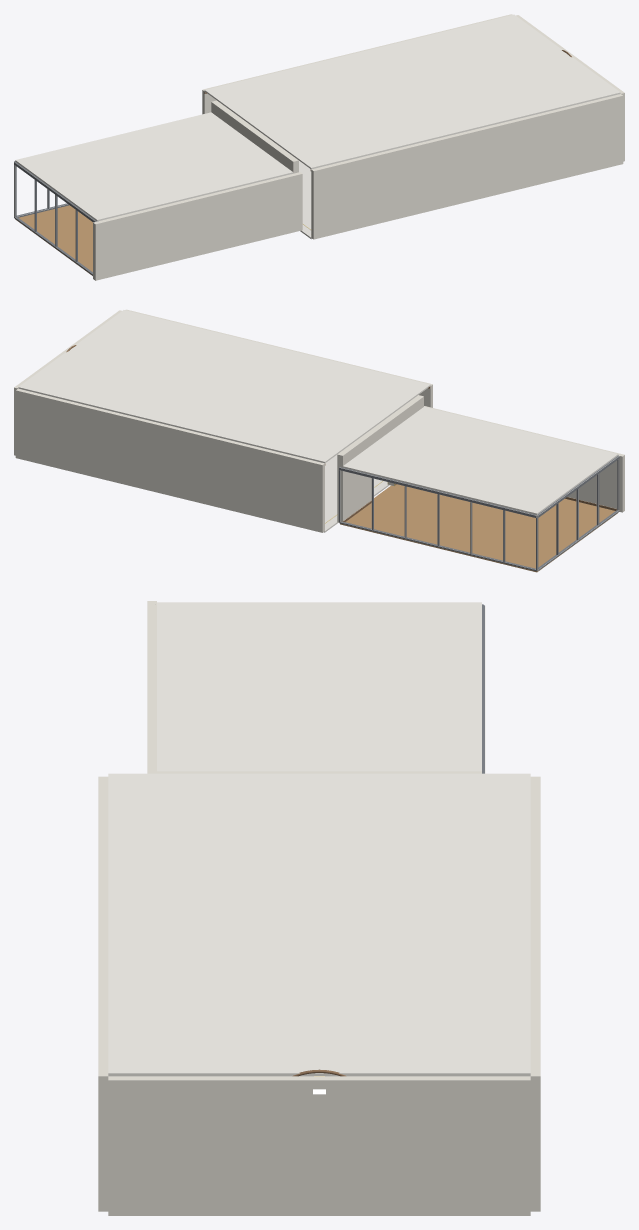
Rendered from rooms.glb.
The picture shows the model from 3 angles, top to bottom: view 1: azimuth 30°, elevation 25°; view 2: azimuth 150°, elevation 25°; view 3: azimuth 270°, elevation 25°; orthographic projection. The views are drawn at different scales.
Parts seen in each view (by area): view 1: room_hall, room_main; view 2: room_hall, room_main; view 3: room_hall, room_main.
Part boxes in pixels (<box>): room_hall: <box>202,14,624,239</box>; room_main: <box>14,100,302,280</box>; room_hall: <box>14,309,432,532</box>; room_main: <box>337,395,624,572</box>; room_hall: <box>98,773,540,1215</box>; room_main: <box>147,601,485,773</box>.
Bounding box in the file's own units: 36.9 × 4.9 × 13.6.
